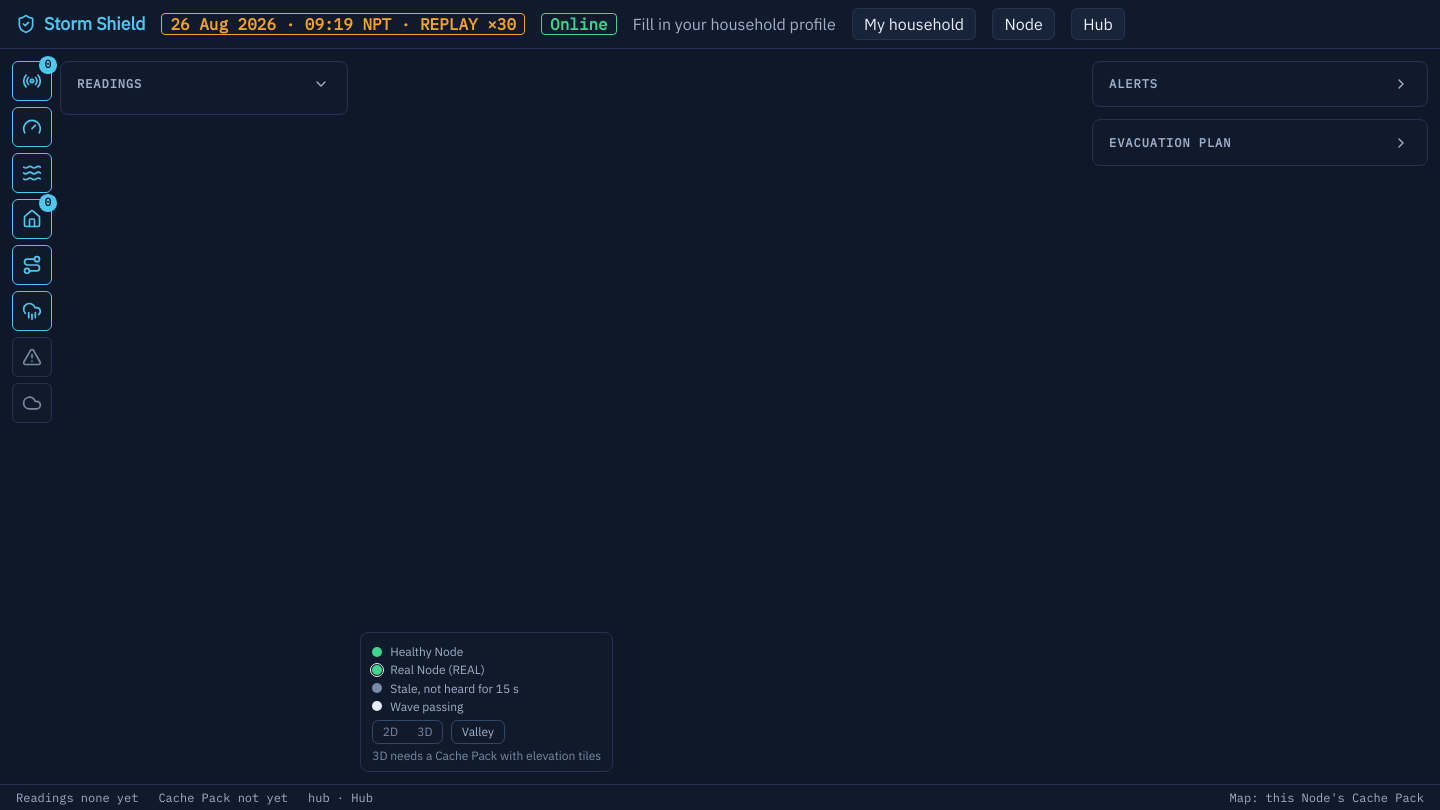
Test: the Hub Panel says to cut the internet once the Event clock reaches the cue
The image size is (1440, 810).
What coordinates should you click on to do the following:
click the button "Hub"
I would click on:
 (1098, 24)
Its box is x1=1071 y1=8 x2=1125 y2=40.
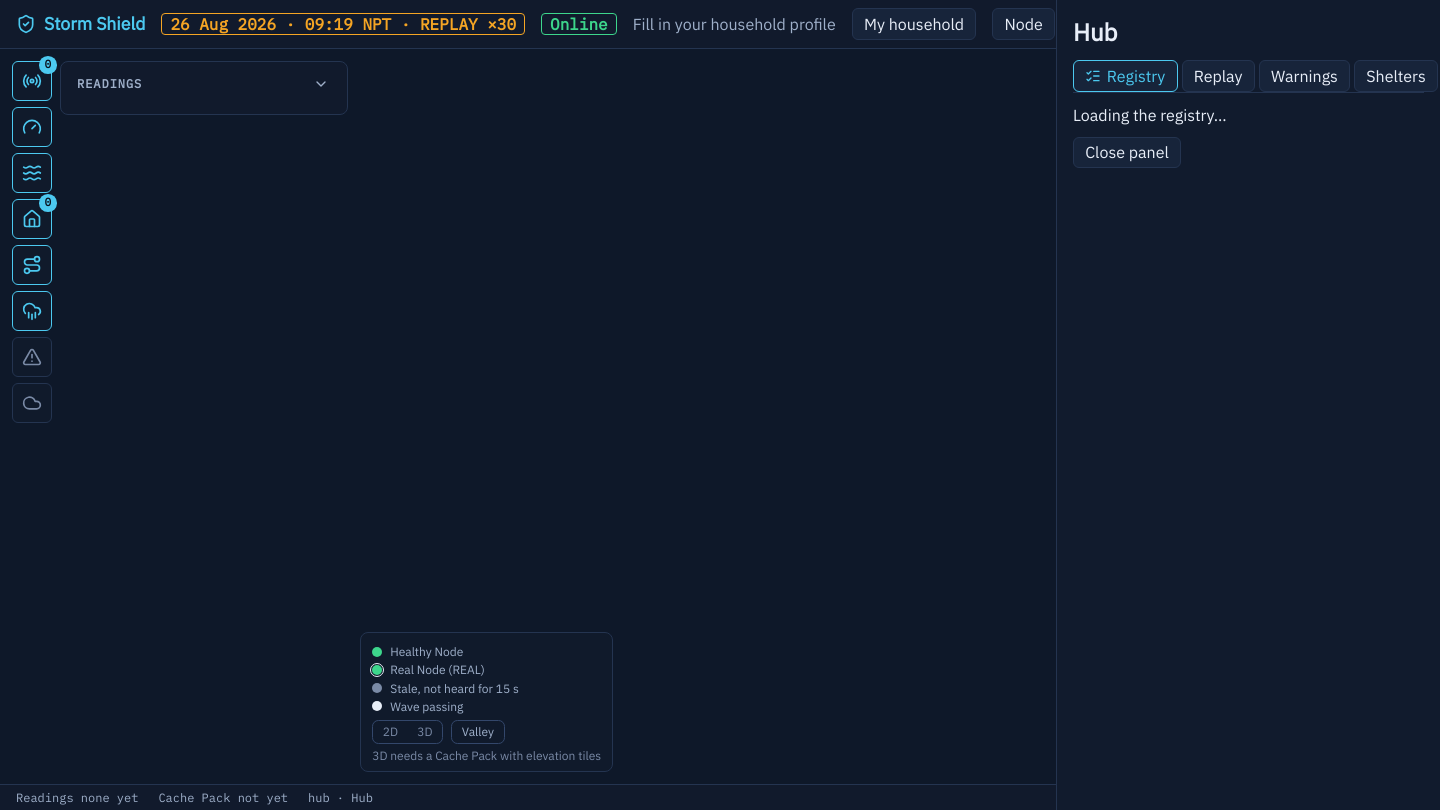
What coordinates should you click on to do the following:
click the tab "Replay"
I would click on:
 (1218, 76)
Its box is x1=1182 y1=60 x2=1255 y2=92.
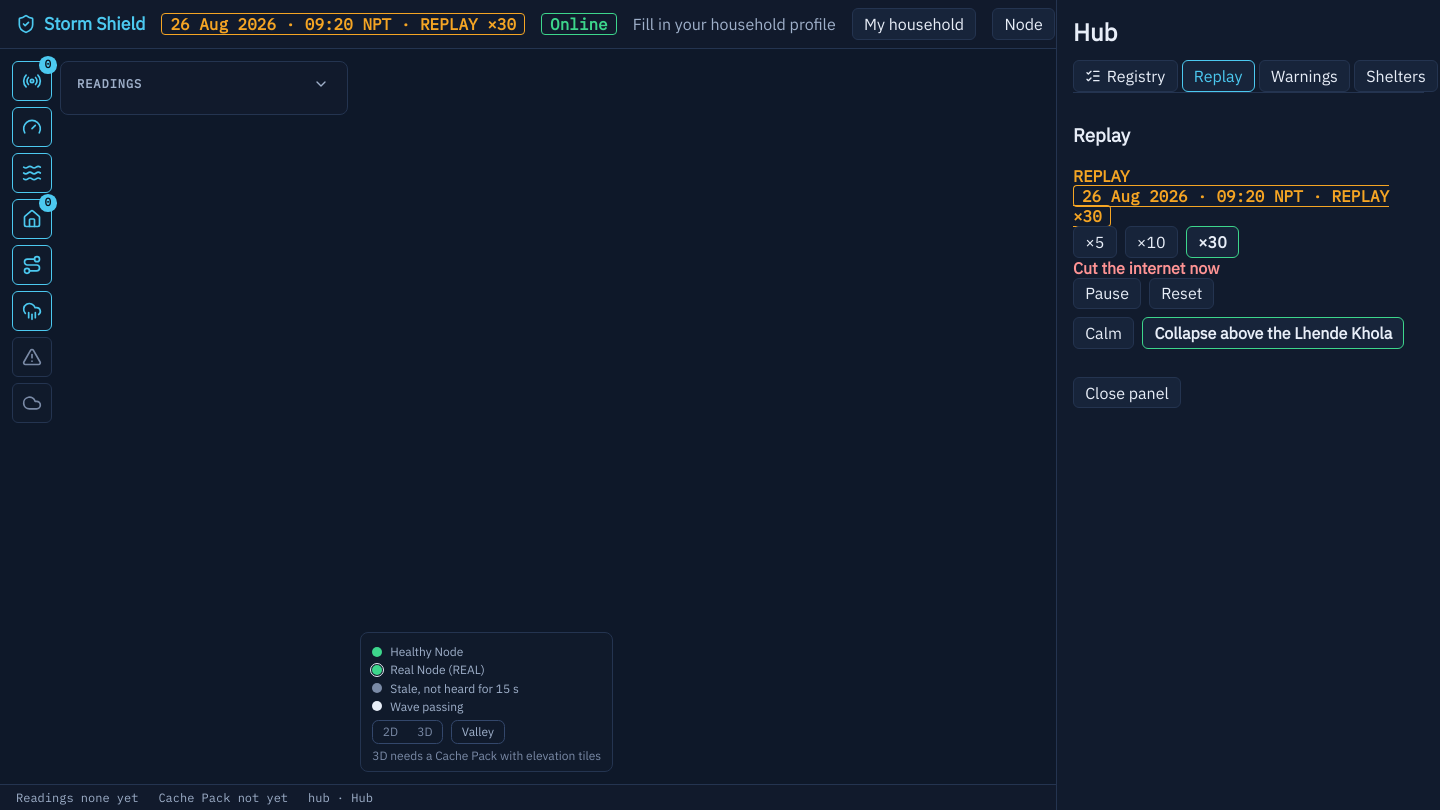
Now the button "Pause" is shown, box x1=1073 y1=278 x2=1141 y2=309
Now the text "Cut the internet now" is shown, box x1=1073 y1=258 x2=1220 y2=278
